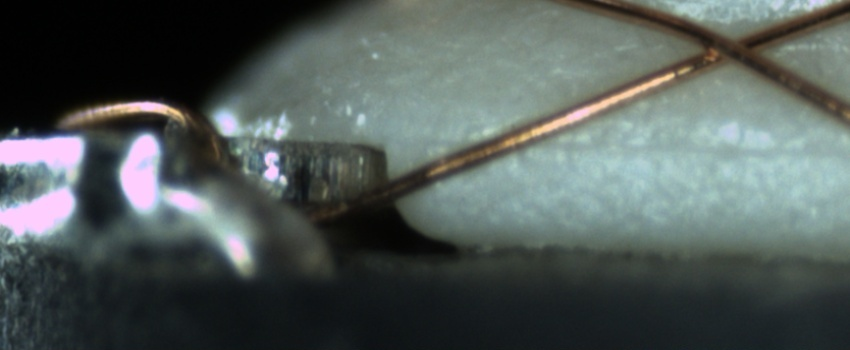CL: (677, 15, 775, 75)
DL: (440, 115, 850, 176)
TE: (52, 93, 239, 177)
